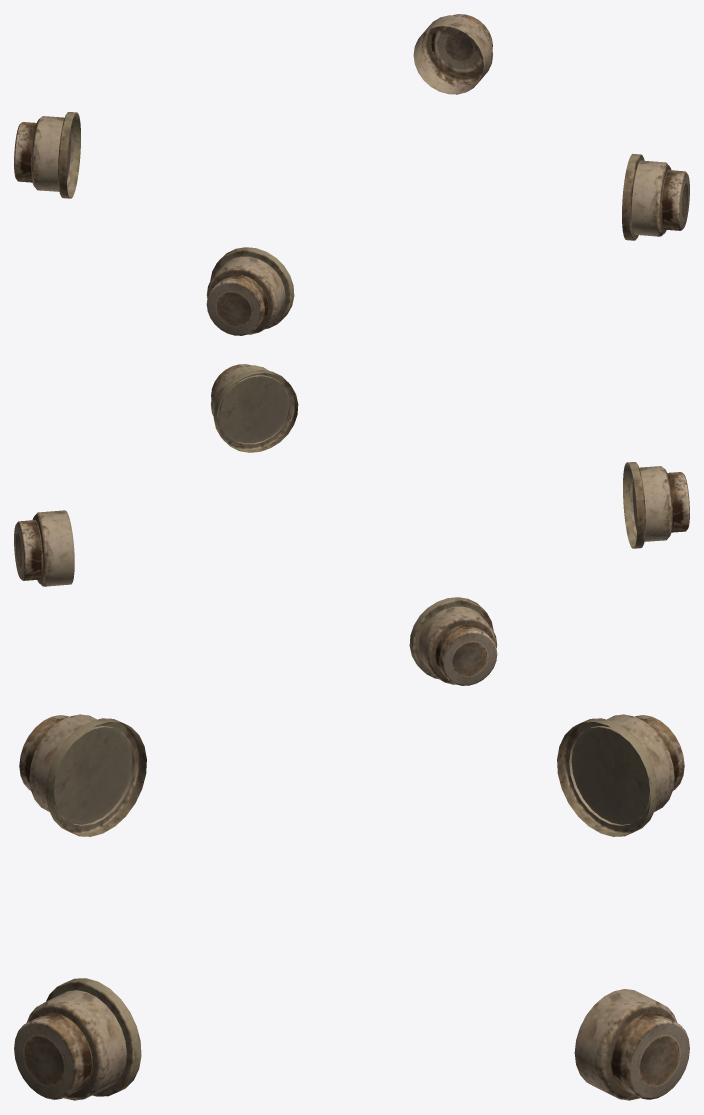
The model's file is SM_Colba_Razem.fbx.
3 renders of one model, top to bottom at view 1: azimuth 30°, elevation 25°; view 2: azimuth 150°, elevation 25°; view 3: azimuth 270°, elevation 25°, orthographic. The views are drawn at different scales.
Visible parts, largest first — view 1: SM_Colba_Razem; view 2: SM_Colba_Razem; view 3: SM_Colba_Razem.
Boxes of the visible parts, x1,y1,x2,y2 form: SM_Colba_Razem: (14, 14, 689, 335); SM_Colba_Razem: (14, 364, 689, 685); SM_Colba_Razem: (14, 714, 689, 1100).
Size of the model in its own units: 1.06 by 0.1664 by 0.9227.
